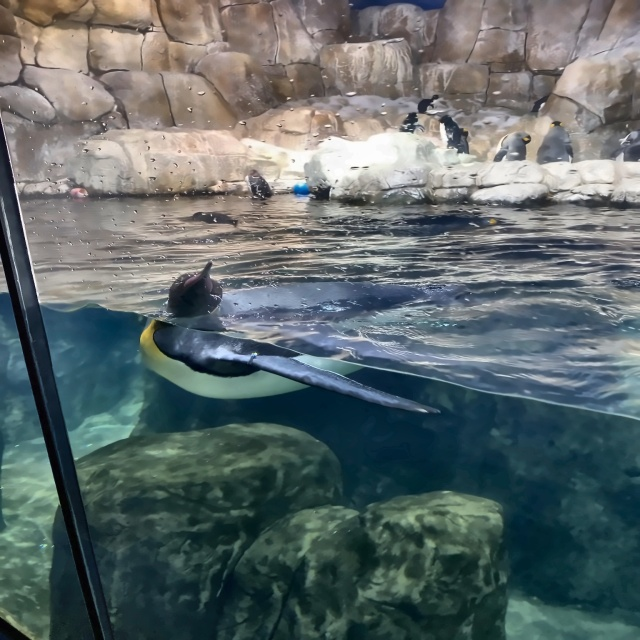penguin: (137, 261, 405, 409), (323, 208, 520, 247), (531, 121, 583, 170), (490, 131, 530, 165), (610, 129, 639, 162), (395, 109, 428, 137), (452, 122, 475, 158), (438, 114, 458, 152), (411, 92, 437, 118)
